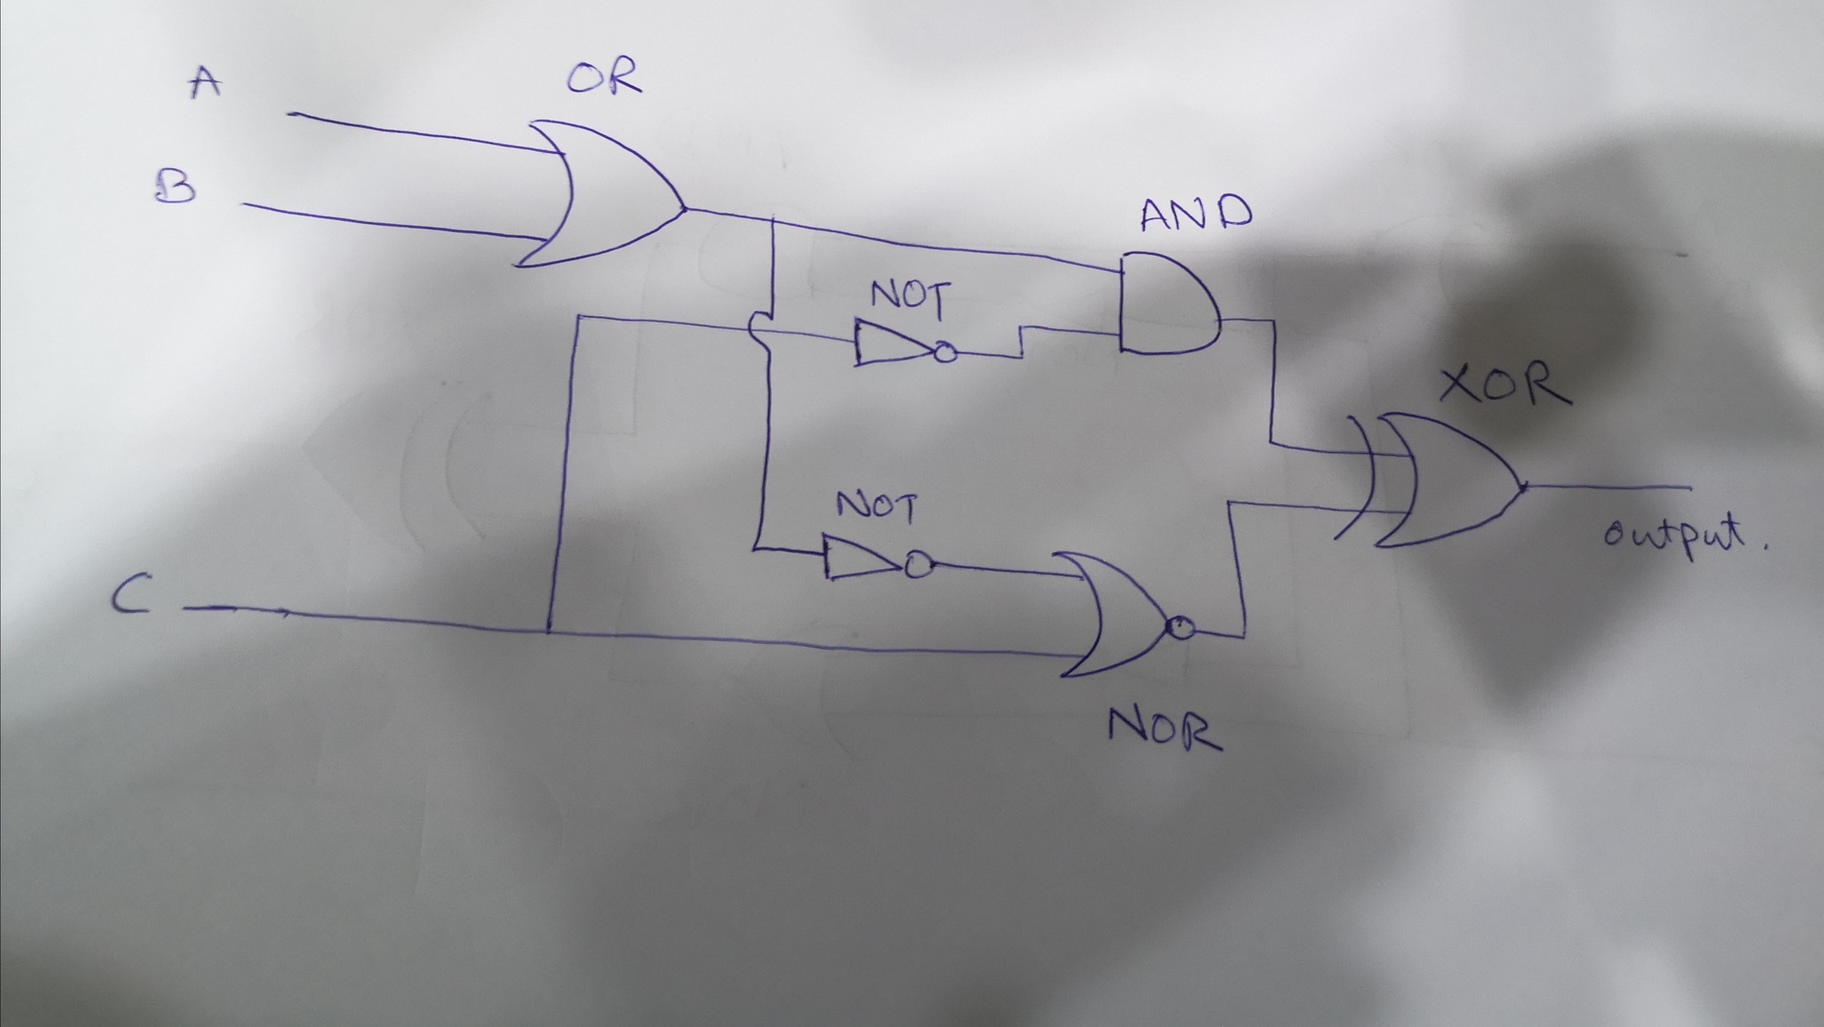and: (1116, 245, 1228, 362)
crossover: (744, 303, 775, 349)
junction: (532, 616, 560, 644), (1259, 428, 1283, 453), (763, 207, 784, 230), (1260, 311, 1287, 329), (1219, 492, 1241, 513), (745, 536, 765, 560), (1234, 626, 1257, 646), (570, 307, 589, 326), (1015, 351, 1029, 364), (1015, 321, 1027, 334)
nor: (1046, 542, 1203, 684)
not: (816, 527, 945, 587), (848, 311, 965, 372)
or: (510, 116, 690, 279)
terminal: (1670, 476, 1702, 498), (232, 192, 257, 217), (278, 103, 303, 126), (175, 599, 198, 617)
text: (1424, 352, 1577, 410), (1604, 510, 1750, 565), (1105, 699, 1226, 761), (1137, 192, 1257, 235), (867, 273, 955, 326), (831, 483, 922, 530), (561, 51, 644, 101), (147, 159, 200, 210), (104, 566, 157, 617), (180, 55, 228, 106)
xor: (1328, 403, 1537, 554)
